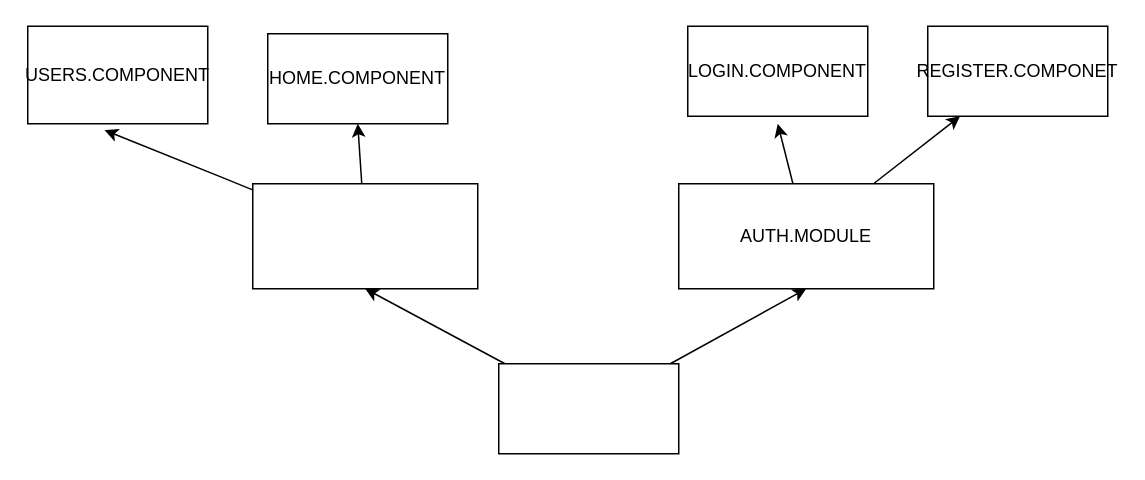
The diagram is 1145 pixels wide and 480 high, and some of its shapes have lost their labels. The centre of each missing label's shape, as x and y in pixels:
APP.MODULE: the point at 588,408
DASHBOARD.MODULE: the point at 364,235
